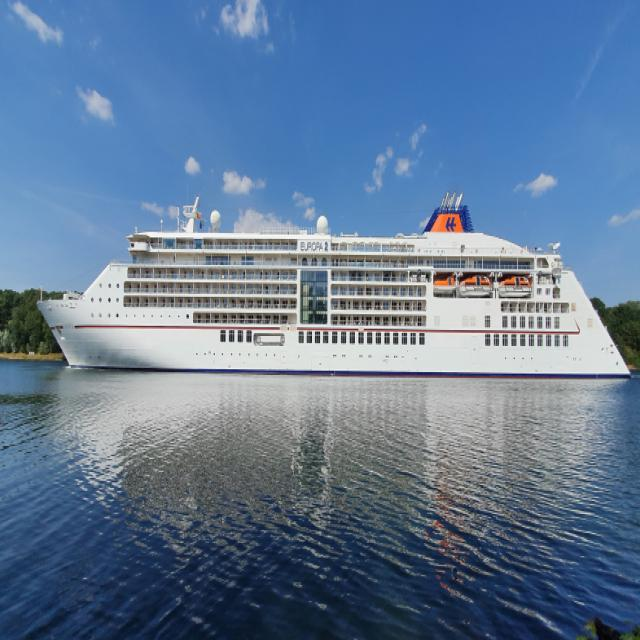cruises: (35, 186, 633, 388)
